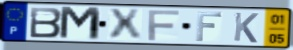B: (29, 6, 65, 39)
F: (147, 9, 181, 42), (195, 11, 224, 42)
K: (232, 11, 260, 44)
M: (58, 5, 103, 42)
X: (107, 8, 144, 41)
